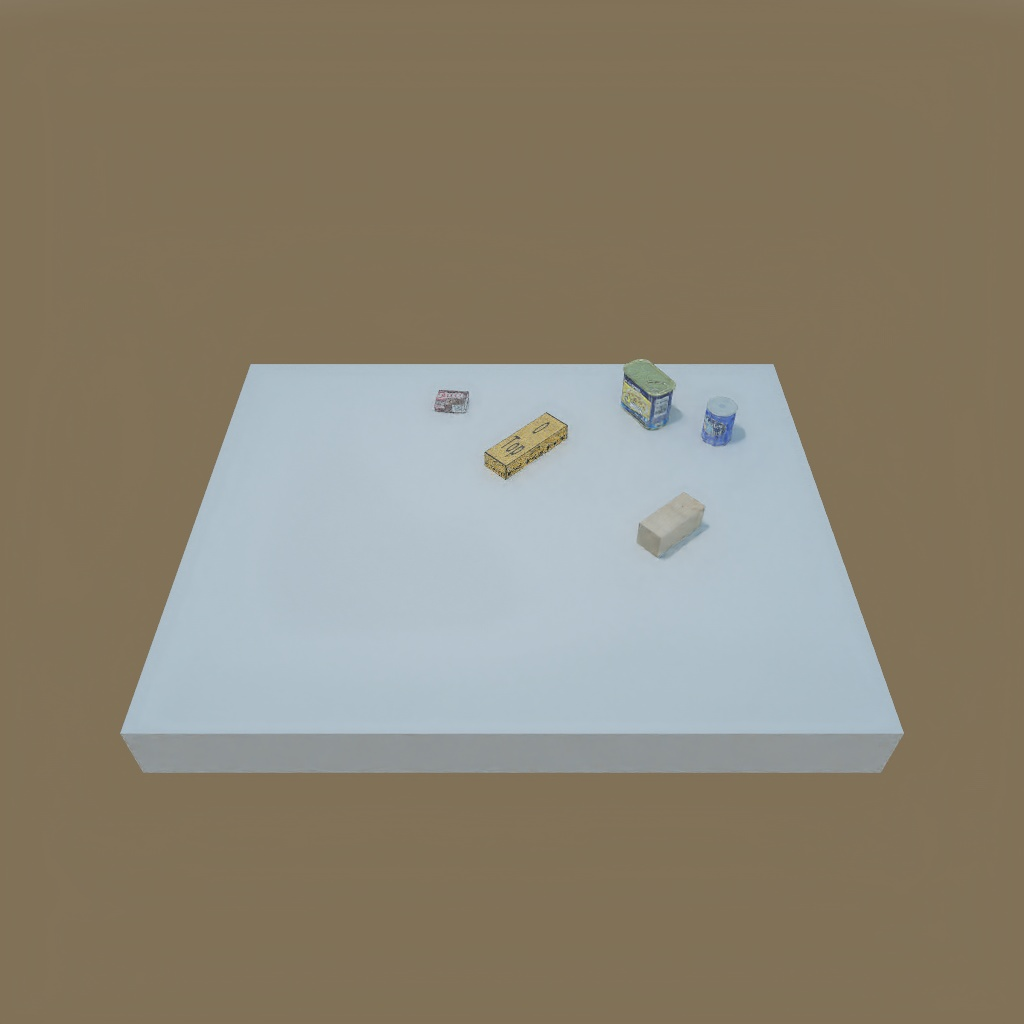jenga: (484, 410, 569, 481)
master_chef_can: (700, 394, 739, 452)
potted_meat_can: (621, 360, 672, 432)
pudding_box: (429, 383, 476, 415)
wood_block: (637, 497, 709, 560)
